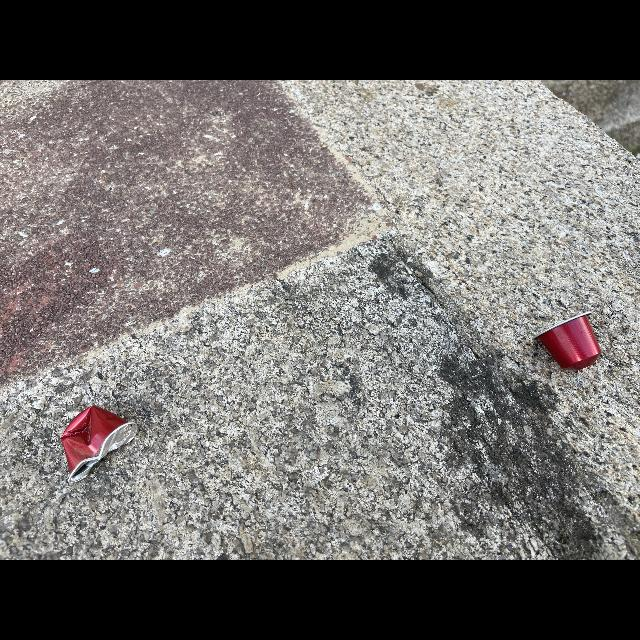damaged_capsule: (56, 403, 142, 483)
intact_capsule: (526, 305, 616, 381)
